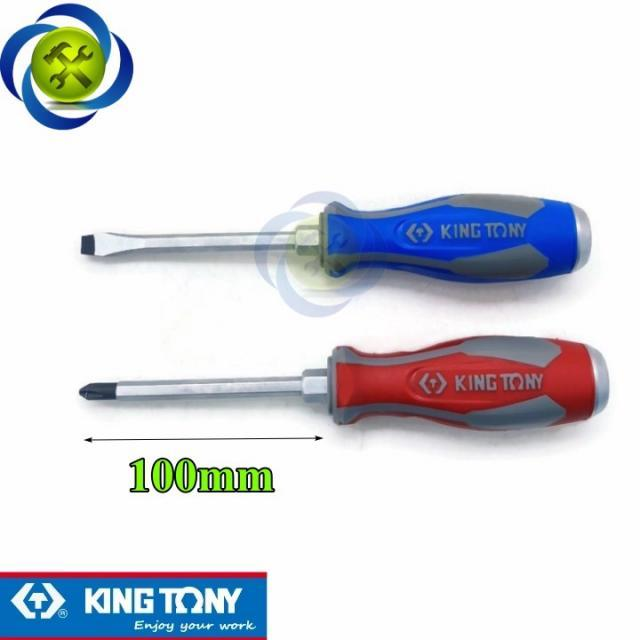screwdriver: (76, 334, 616, 436), (75, 190, 592, 289)
